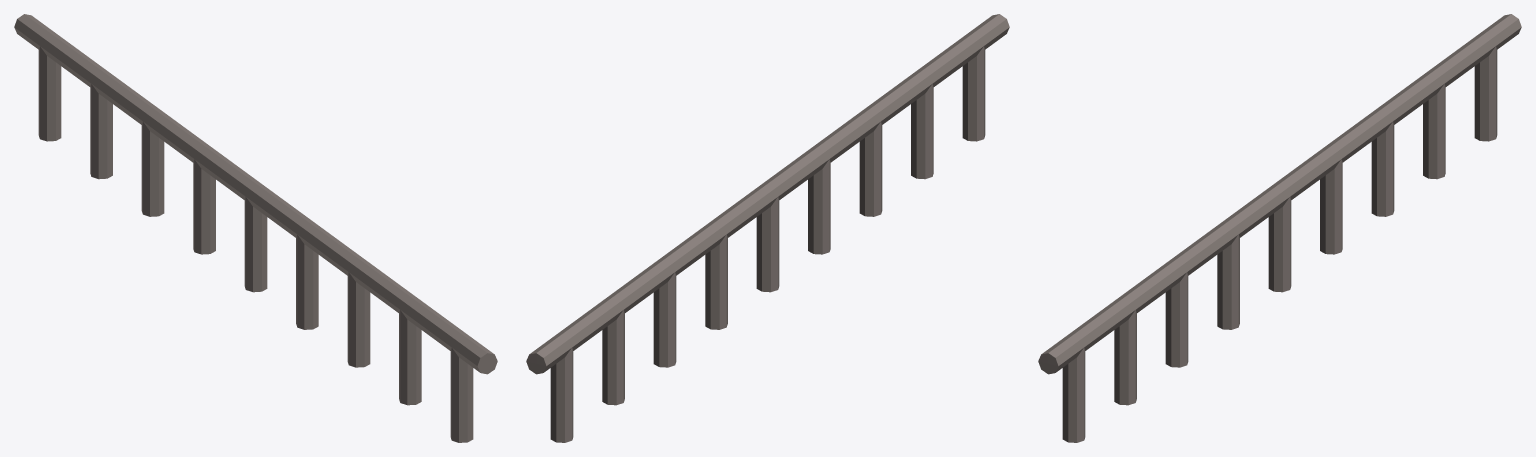
The model's file is Rail.obj.
3 renders of one model, left to right at view 1: azimuth 30°, elevation 25°; view 2: azimuth 150°, elevation 25°; view 3: azimuth 330°, elevation 25°, orthographic.
Visible parts, largest first — view 1: Rail; view 2: Rail; view 3: Rail.
Part boxes in pixels (x1,y1,x2,y2): Rail: [14, 14, 497, 442]; Rail: [526, 14, 1009, 442]; Rail: [1038, 14, 1521, 442].
Size of the model in its own units: 0.169 by 0.8242 by 6.66.
